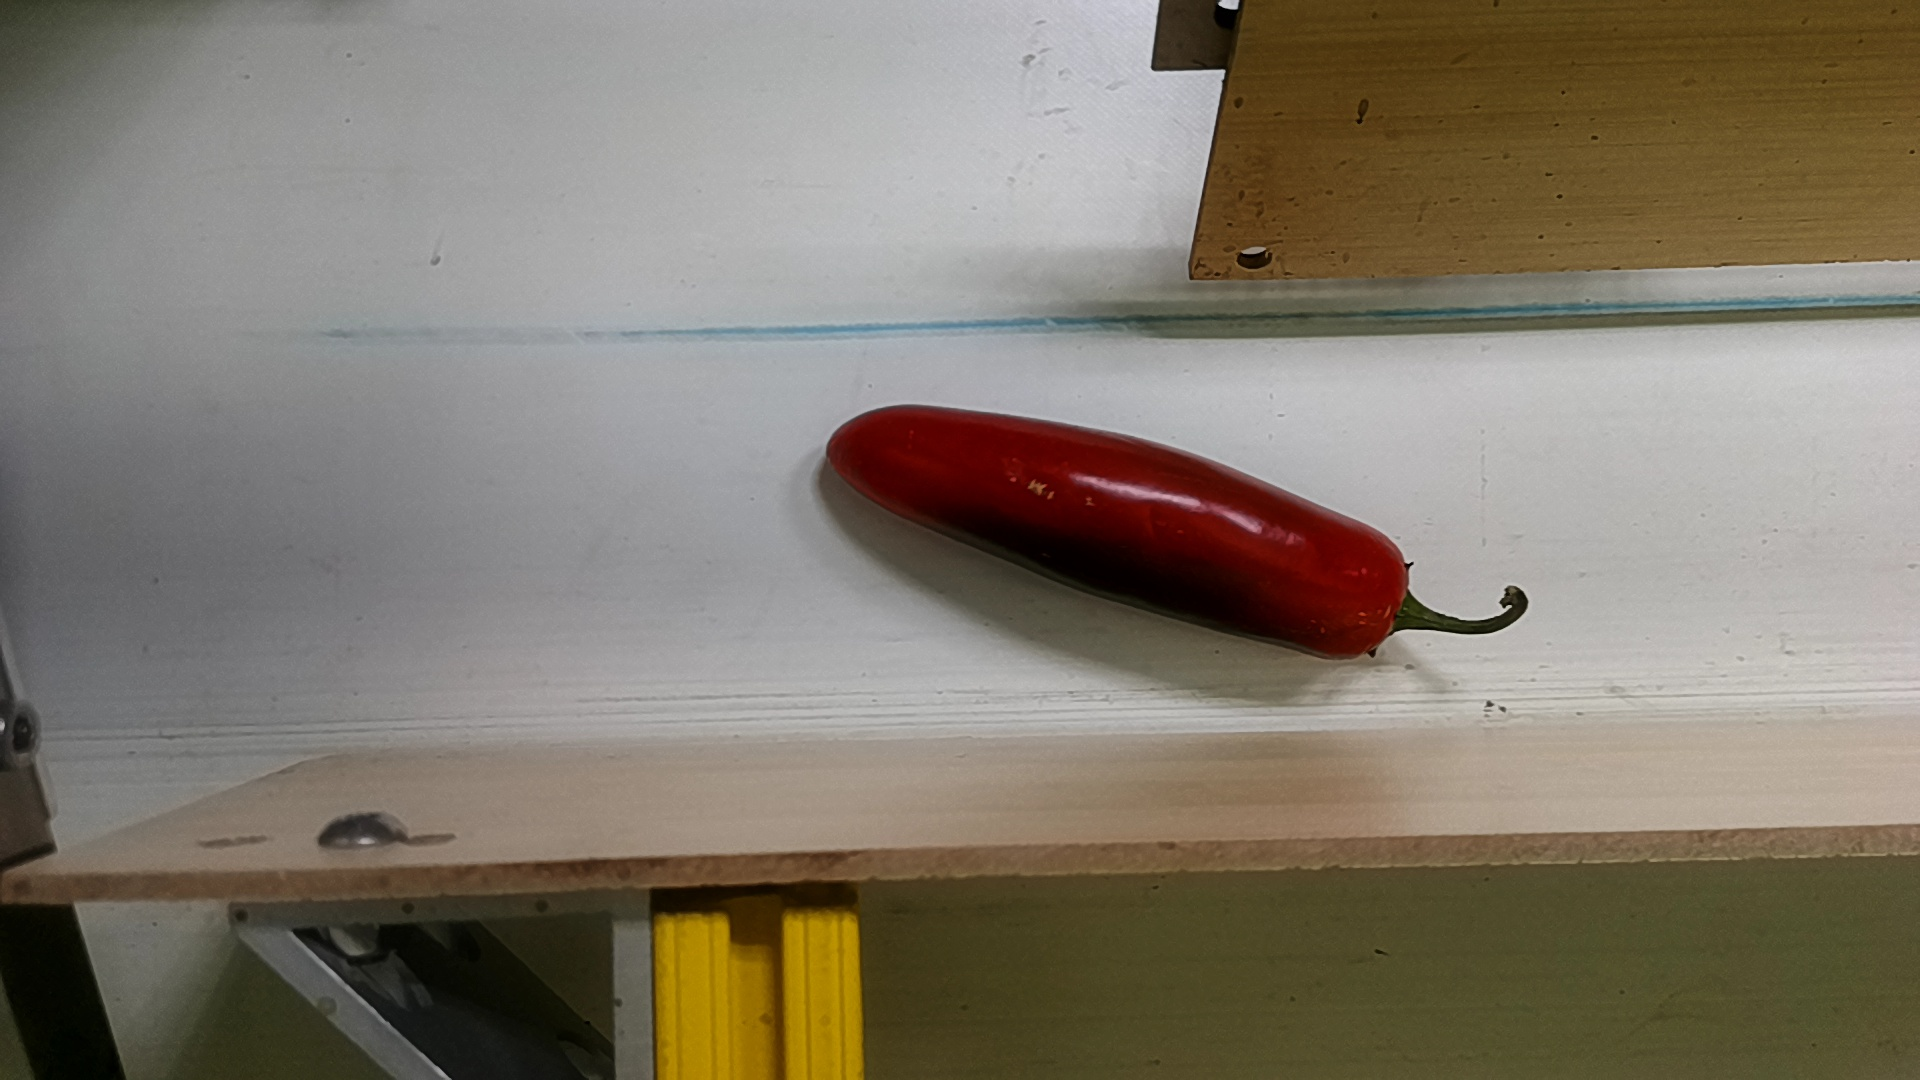Cut Point: (1346, 516, 1428, 663)
